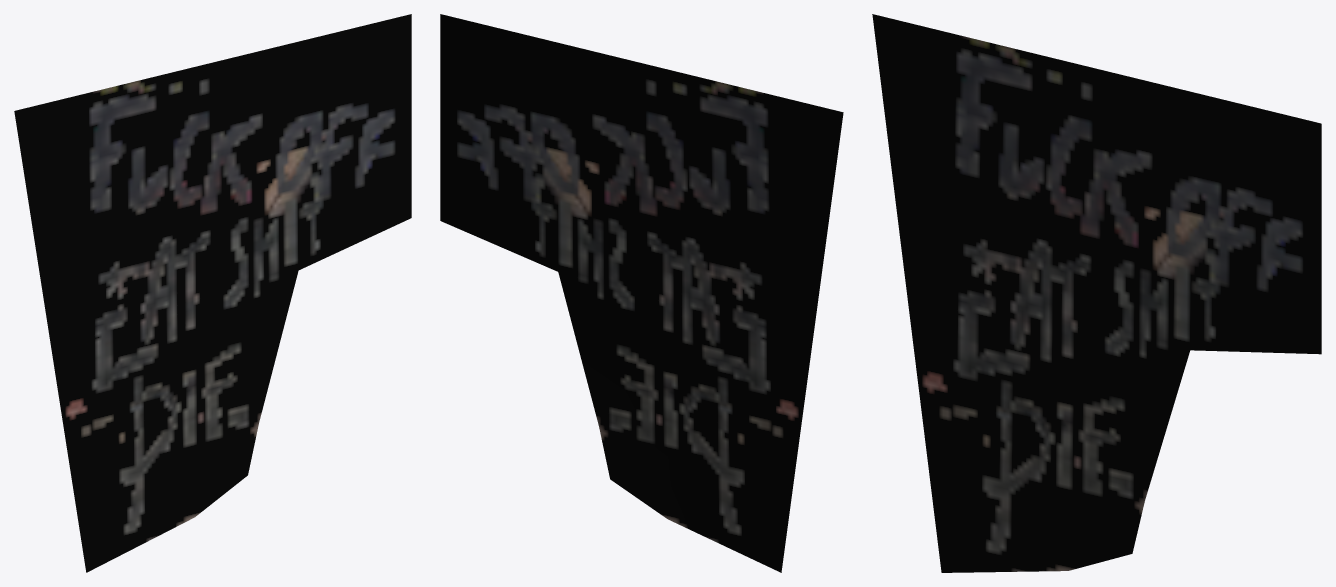
Rendered from fuckoff_graffiti.FBX.
The picture shows the model from 3 angles, left to right: view 1: azimuth 30°, elevation 25°; view 2: azimuth 150°, elevation 25°; view 3: azimuth 330°, elevation 25°; orthographic projection. The views are drawn at different scales.
Parts seen in each view (by area): view 1: fuck_off_graffiti; view 2: fuck_off_graffiti; view 3: fuck_off_graffiti.
Part boxes in pixels (x1,y1,x2,y2): fuck_off_graffiti: (14, 14, 411, 572); fuck_off_graffiti: (440, 14, 843, 572); fuck_off_graffiti: (872, 14, 1321, 572).
Bounding box in the file's own units: 26.49 × 30.21 × 0.626.
